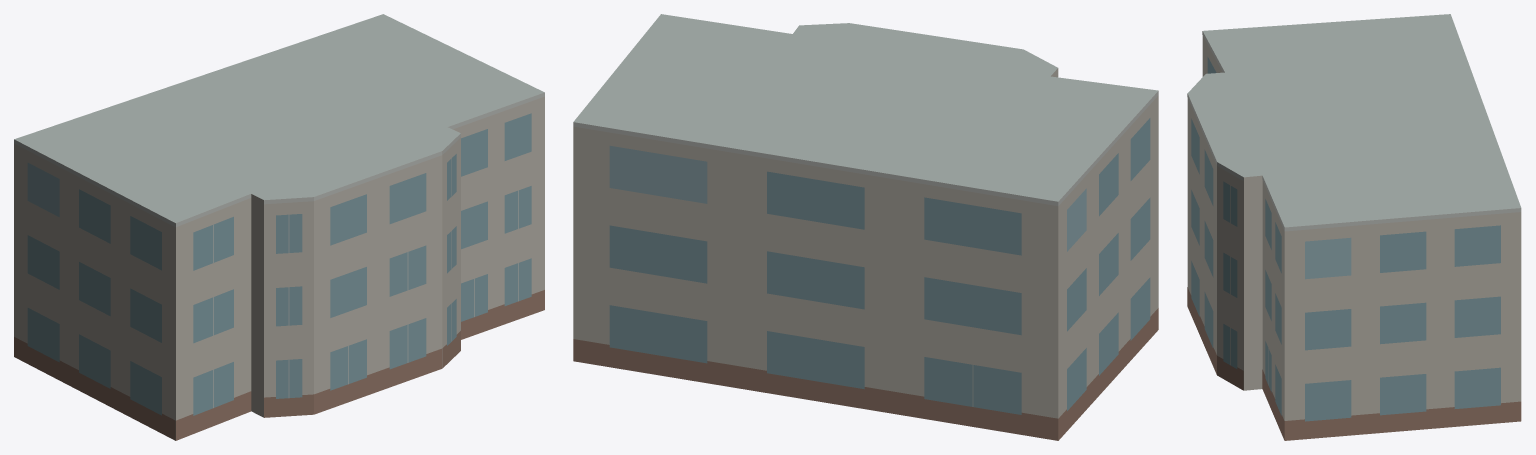
Rendered from survey-upis-32836495.glb.
3 renders of one model, left to right at view 1: azimuth 30°, elevation 25°; view 2: azimuth 150°, elevation 25°; view 3: azimuth 270°, elevation 25°, orthographic. The views are drawn at different scales.
Parts seen in each view (by area): view 1: survey-upis-32836495.tmp; view 2: survey-upis-32836495.tmp; view 3: survey-upis-32836495.tmp.
Part boxes in pixels (x1,y1,x2,y2): survey-upis-32836495.tmp: (14,14,544,440); survey-upis-32836495.tmp: (573,14,1158,440); survey-upis-32836495.tmp: (1187,14,1521,440).
Bounding box in the file's own units: 27.9 × 13 × 18.44.
